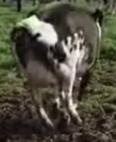cow: (10, 3, 104, 132)
